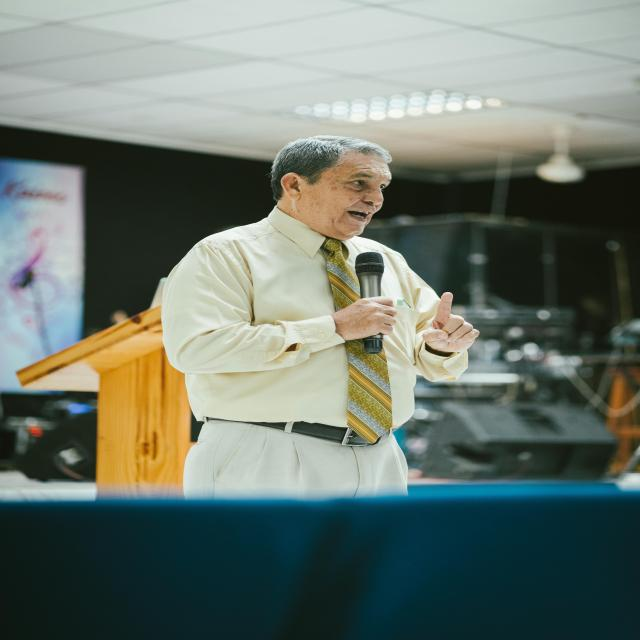human: (148, 132, 484, 492)
